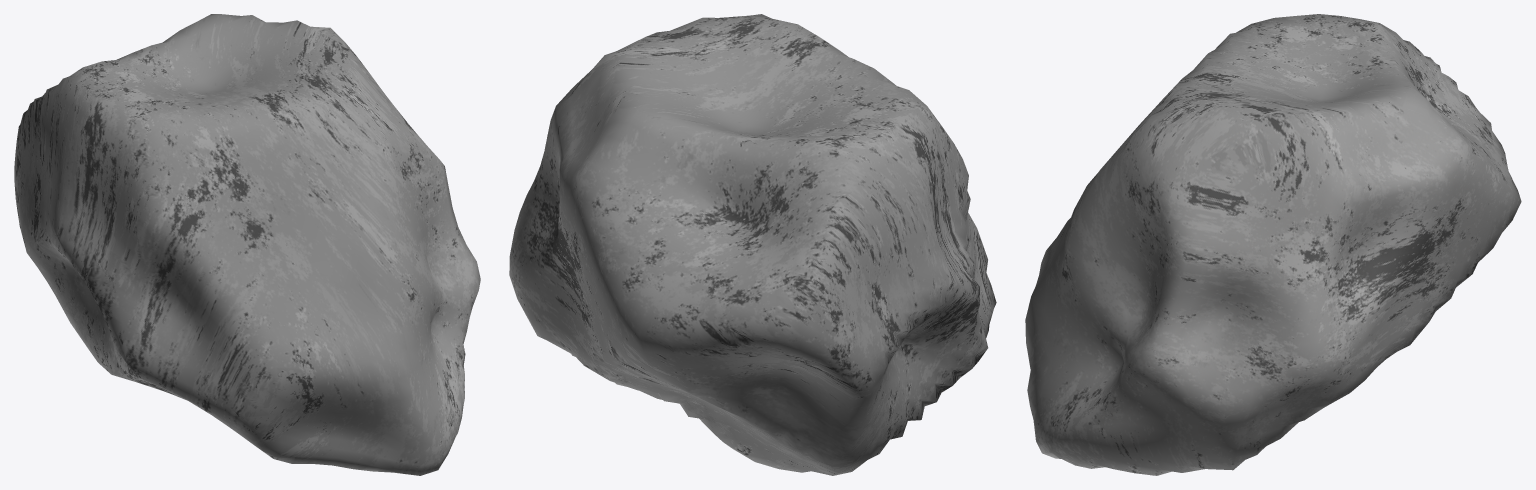
Rendered from silver_ore1.glb.
3 renders of one model, left to right at view 1: azimuth 30°, elevation 25°; view 2: azimuth 150°, elevation 25°; view 3: azimuth 270°, elevation 25°, orthographic. The views are drawn at different scales.
Parts seen in each view (by area): view 1: Cube.002; view 2: Cube.002; view 3: Cube.002.
Part boxes in pixels (left/top/right/bottom): Cube.002: left=14, top=14, right=480, bottom=475; Cube.002: left=509, top=14, right=996, bottom=475; Cube.002: left=1025, top=14, right=1521, bottom=475.
Bounding box in the file's own units: 8.99 × 8.05 × 10.22.
Materials: 2 (1 with a texture image).
